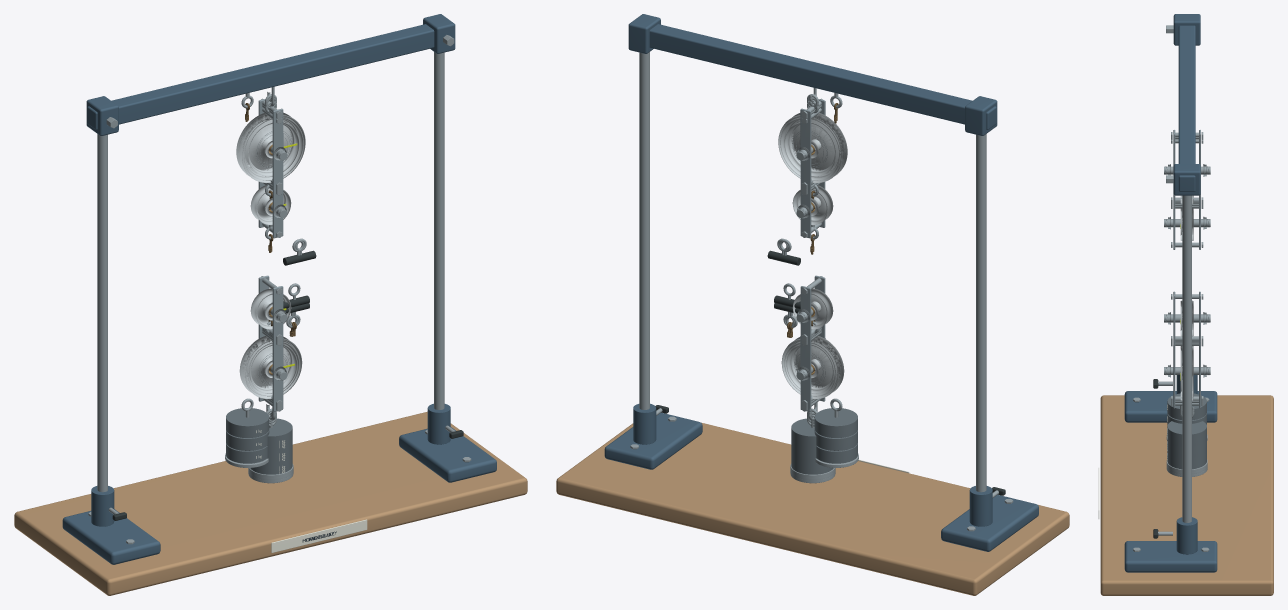
The model's file is pulley-precision-v1.glb.
The picture shows the model from 3 angles, left to right: view 1: azimuth 30°, elevation 25°; view 2: azimuth 150°, elevation 25°; view 3: azimuth 270°, elevation 25°; orthographic projection. The views are drawn at different scales.
Parts seen in each view (by area): view 1: fixed__Solid hardwood laboratory board, fixed__Load bearing top crossbar, fixed__Ground stainless upright, fixed__Ground stainless upright.001, fixed__Cast support foot, fixed__Cast support foot.001, tackle4__fixed2 | continuous U groove, tackle2__fixed1 | continuous U groove.001, fixed__fixed1 | continuous U groove, tackle4__moving2 | continuous U groove, fixed__Slotted steel mass 01, fixed__Maker plate (+8 smaller); view 2: fixed__Solid hardwood laboratory board, fixed__Load bearing top crossbar, fixed__Ground stainless upright, fixed__Ground stainless upright.001, fixed__Cast support foot.001, fixed__Cast support foot, tackle4__fixed2 | continuous U groove, tackle2__fixed1 | continuous U groove.001, tackle4__moving2 | continuous U groove, fixed__fixed1 | continuous U groove, fixed__Slotted steel mass 01, moving__moving1 | continuous U groove (+7 smaller); view 3: fixed__Solid hardwood laboratory board, fixed__Ground stainless upright.001, fixed__Load bearing top crossbar, fixed__Cast support foot.001, fixed__Cast support foot, fixed__Upright base socket.001, fixed__Crossbar clamp.001, fixed__Crossbar clamp, tackle2__Slotted steel mass 01.002, fixed__Slotted steel mass 01, moving__Slotted steel mass 01.001, moving__Slotted steel mass 02.001 (+1 smaller).
Boxes of the visible parts, x1,y1,x2,y2 form: fixed__Solid hardwood laboratory board: (14, 411, 527, 595); fixed__Load bearing top crossbar: (87, 24, 434, 129); fixed__Ground stainless upright: (97, 134, 107, 492); fixed__Ground stainless upright.001: (434, 52, 444, 409); fixed__Cast support foot: (62, 509, 160, 564); fixed__Cast support foot.001: (399, 427, 496, 482); tackle4__fixed2 | continuous U groove: (236, 112, 305, 182); tackle2__fixed1 | continuous U groove.001: (238, 114, 303, 180); fixed__fixed1 | continuous U groove: (242, 118, 299, 176); tackle4__moving2 | continuous U groove: (239, 336, 302, 399); fixed__Slotted steel mass 01: (226, 408, 269, 437); fixed__Maker plate: (271, 519, 367, 552); fixed__Solid hardwood laboratory board: (556, 422, 1069, 595); fixed__Load bearing top crossbar: (649, 24, 996, 129); fixed__Ground stainless upright: (976, 134, 986, 492); fixed__Ground stainless upright.001: (639, 52, 649, 409); fixed__Cast support foot.001: (604, 412, 702, 469); fixed__Cast support foot: (941, 495, 1038, 551); tackle4__fixed2 | continuous U groove: (778, 112, 847, 182); tackle2__fixed1 | continuous U groove.001: (780, 114, 845, 180); tackle4__moving2 | continuous U groove: (781, 336, 844, 399); fixed__fixed1 | continuous U groove: (784, 118, 841, 176); fixed__Slotted steel mass 01: (814, 408, 857, 437); moving__moving1 | continuous U groove: (784, 338, 841, 396); fixed__Solid hardwood laboratory board: (1100, 395, 1273, 595); fixed__Ground stainless upright.001: (1182, 195, 1191, 522); fixed__Load bearing top crossbar: (1178, 25, 1195, 192); fixed__Cast support foot.001: (1124, 541, 1217, 572); fixed__Cast support foot: (1124, 391, 1217, 422); fixed__Upright base socket.001: (1176, 517, 1197, 554); fixed__Crossbar clamp.001: (1173, 164, 1200, 195); fixed__Crossbar clamp: (1173, 14, 1200, 45); tackle2__Slotted steel mass 01.002: (1167, 421, 1206, 444); fixed__Slotted steel mass 01: (1167, 393, 1206, 420); moving__Slotted steel mass 01.001: (1167, 429, 1206, 446); moving__Slotted steel mass 02.001: (1167, 440, 1206, 458).
Size of the model in its own units: 1.1 by 1.13 by 0.4361.
